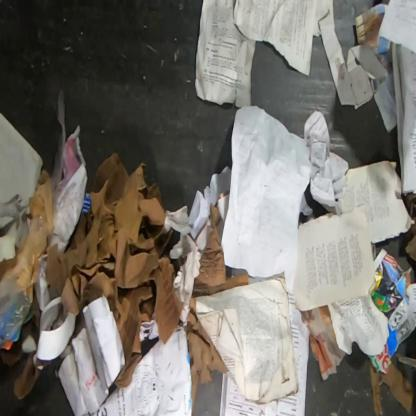cardboard: (318, 10, 388, 108), (366, 281, 416, 375), (405, 233, 416, 261)
soft_plastic: (0, 273, 32, 350), (50, 89, 66, 189)
